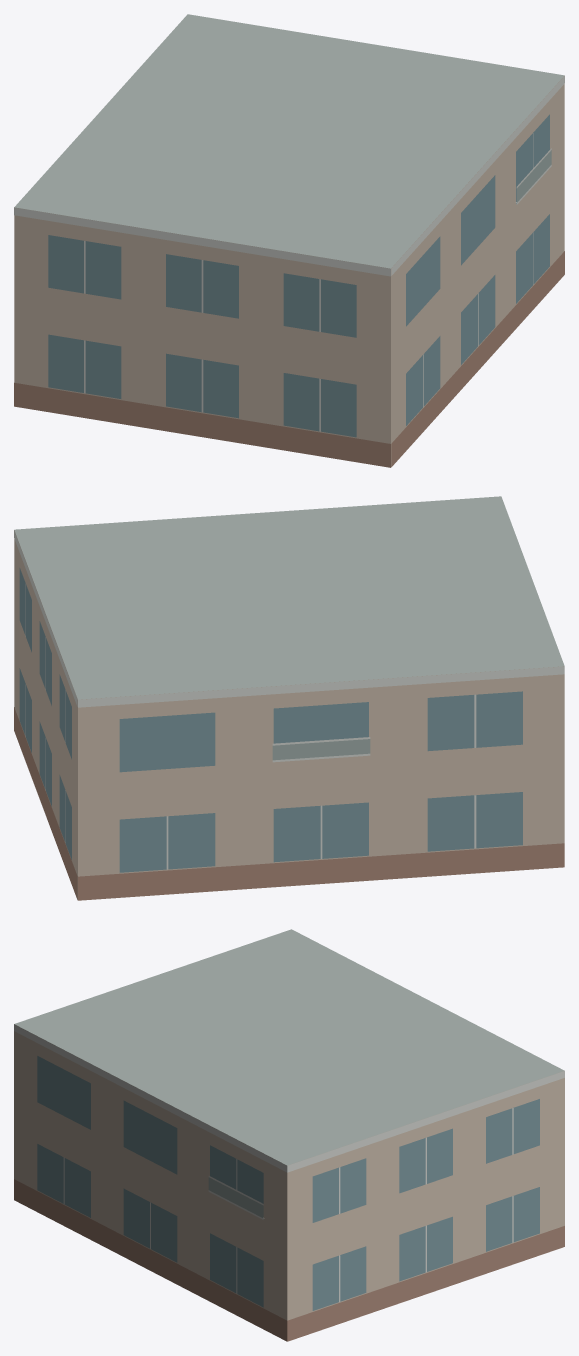
File: survey-upis-32778469.glb
The picture shows the model from 3 angles, top to bottom: view 1: azimuth 30°, elevation 25°; view 2: azimuth 150°, elevation 25°; view 3: azimuth 270°, elevation 25°; orthographic projection. The views are drawn at different scales.
Parts seen in each view (by area): view 1: survey-upis-32778469.tmp; view 2: survey-upis-32778469.tmp; view 3: survey-upis-32778469.tmp.
Part boxes in pixels (x1,y1,x2,y2): survey-upis-32778469.tmp: (14,14,564,467); survey-upis-32778469.tmp: (14,496,564,900); survey-upis-32778469.tmp: (14,929,564,1341).
Size of the model in its own units: 17.58 by 6.1 by 17.3.
